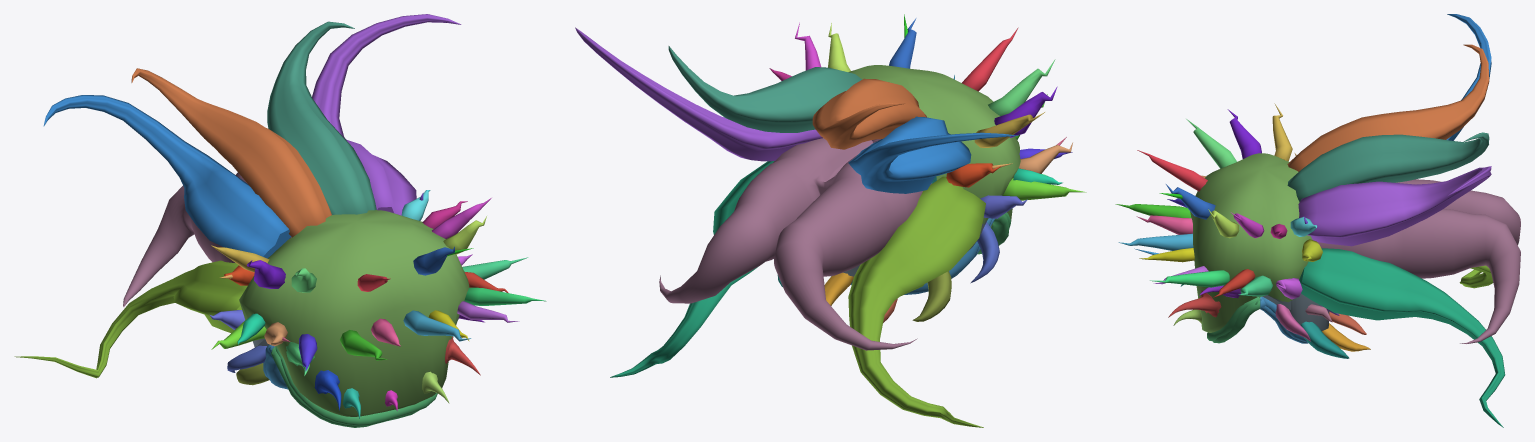
Rendered from morbol-independent-shells-R01.obj.
The picture shows the model from 3 angles, left to right: view 1: azimuth 30°, elevation 25°; view 2: azimuth 150°, elevation 25°; view 3: azimuth 270°, elevation 25°; orthographic projection. The views are drawn at different scales.
Visible parts, largest first — view 1: BODY, T05, T21, T22, T06, T03, J01, M01, H05, H02, H16, H07 (+12 smaller); view 2: J01, T03, BODY, T05, T22, T06, T21, T04, H15, H20, T09, H14 (+10 smaller); view 3: BODY, J01, T04, T06, T22, T21, M01, JAW, H02, H05, H15, T10 (+19 smaller).
Part boxes in pixels (bbox=[...]): BODY: bbox=[239, 210, 469, 416]; T05: bbox=[43, 95, 291, 258]; T21: bbox=[131, 68, 331, 237]; T22: bbox=[267, 21, 376, 214]; T06: bbox=[312, 14, 461, 215]; T03: bbox=[14, 260, 247, 378]; J01: bbox=[123, 172, 247, 306]; M01: bbox=[271, 346, 437, 427]; H05: bbox=[403, 310, 471, 341]; H02: bbox=[464, 287, 546, 305]; H16: bbox=[247, 260, 285, 288]; H07: bbox=[340, 330, 387, 360]; J01: bbox=[659, 138, 931, 350]; T03: bbox=[848, 176, 985, 427]; BODY: bbox=[848, 65, 1020, 227]; T05: bbox=[848, 116, 1017, 193]; T22: bbox=[668, 46, 861, 132]; T06: bbox=[575, 27, 822, 161]; T21: bbox=[812, 78, 926, 149]; T04: bbox=[610, 161, 774, 377]; H15: bbox=[988, 59, 1055, 115]; H20: bbox=[1002, 178, 1086, 200]; T09: bbox=[912, 271, 951, 321]; H14: bbox=[962, 27, 1018, 91]; BODY: bbox=[1190, 153, 1312, 332]; J01: bbox=[1317, 179, 1520, 343]; T04: bbox=[1299, 248, 1505, 427]; T06: bbox=[1298, 166, 1491, 246]; T22: bbox=[1287, 132, 1489, 201]; T21: bbox=[1287, 44, 1489, 171]; M01: bbox=[1207, 297, 1260, 343]; JAW: bbox=[1261, 293, 1329, 330]; H02: bbox=[1150, 270, 1229, 287]; H05: bbox=[1118, 233, 1193, 250]; H15: bbox=[1186, 119, 1236, 168]; T10: bbox=[1301, 321, 1349, 358].
Bounding box in the file's own units: 2.66 × 1.87 × 2.51.
